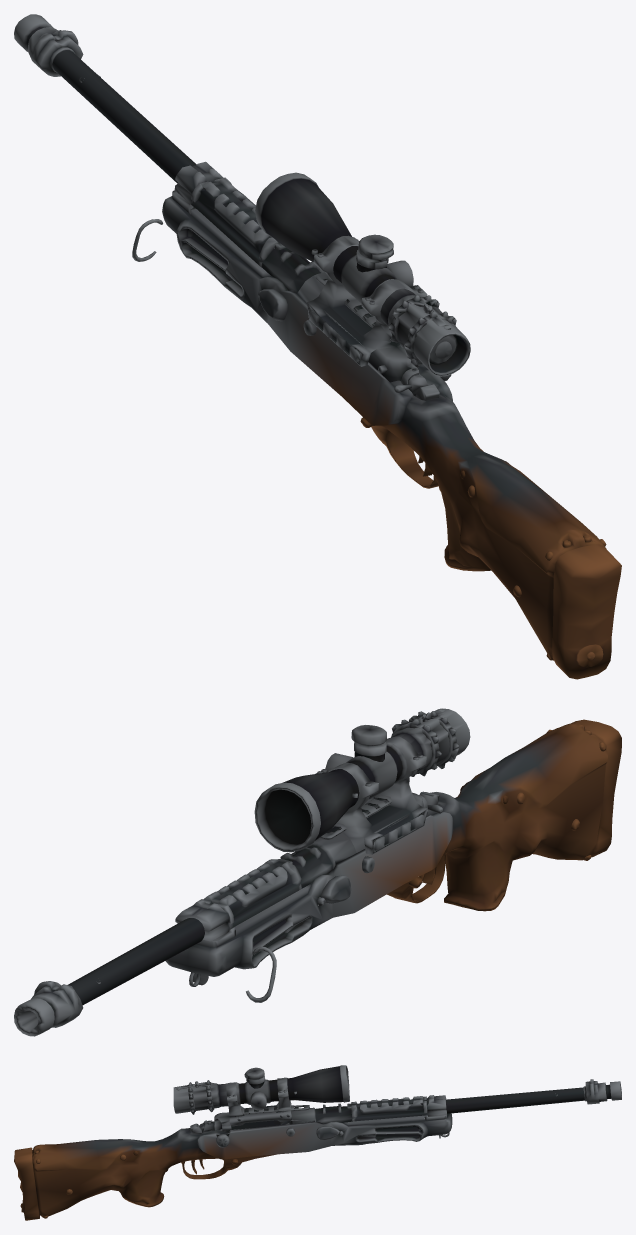
File: sniper.glb
3 renders of one model, top to bottom at view 1: azimuth 30°, elevation 25°; view 2: azimuth 150°, elevation 25°; view 3: azimuth 270°, elevation 25°, orthographic. The views are drawn at different scales.
Visible parts, largest first — view 1: corpo; view 2: corpo; view 3: corpo.
Part boxes in pixels (bbox=[...]): corpo: bbox=[14, 14, 621, 679]; corpo: bbox=[14, 708, 621, 1036]; corpo: bbox=[14, 1065, 621, 1220].
Bounding box in the file's own units: 0.1448 × 0.3356 × 1.22.
